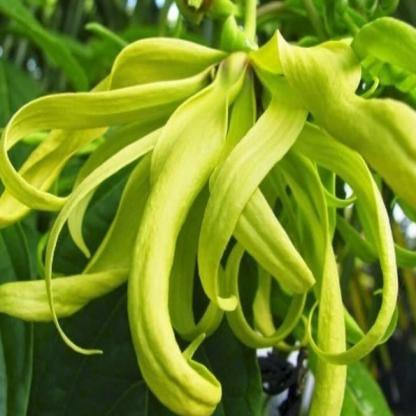Kenanga: (51, 23, 411, 357)
